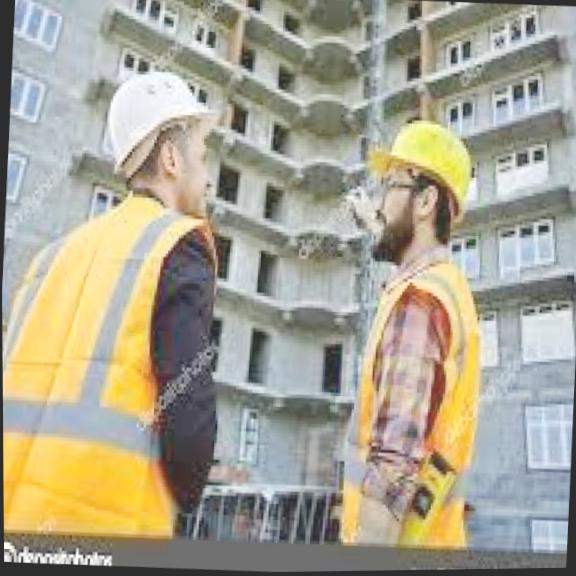safety_vest: (1, 189, 225, 562), (334, 255, 493, 539)
